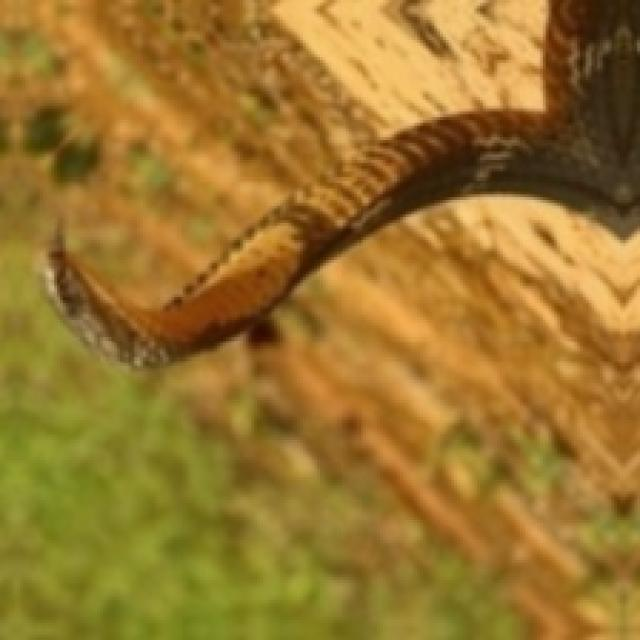king cobra: (49, 0, 637, 366)
